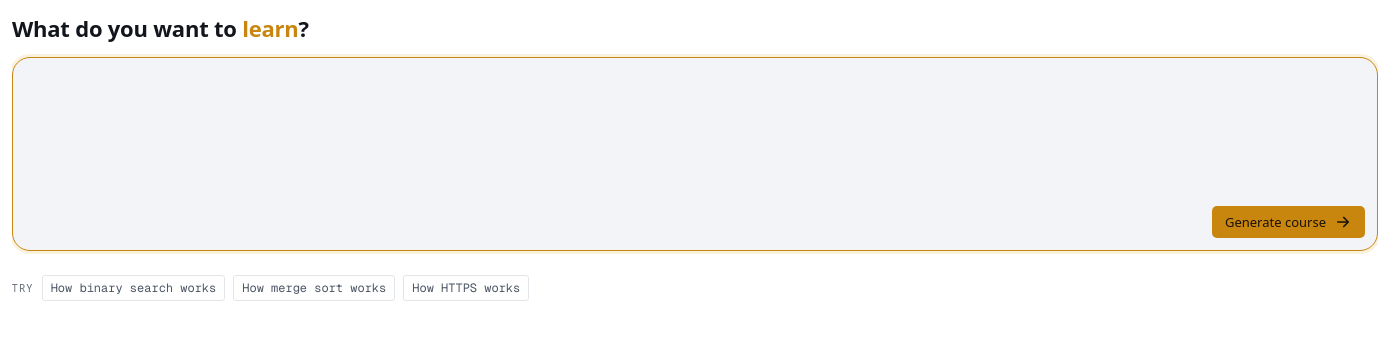
Test: TopicForm › surfaces an error and does not submit when the topic is empty
This screenshot has width=1390, height=348.
Click the button "Generate course".
click(1288, 222)  # box top-left (1212, 206), bottom-right (1365, 238)
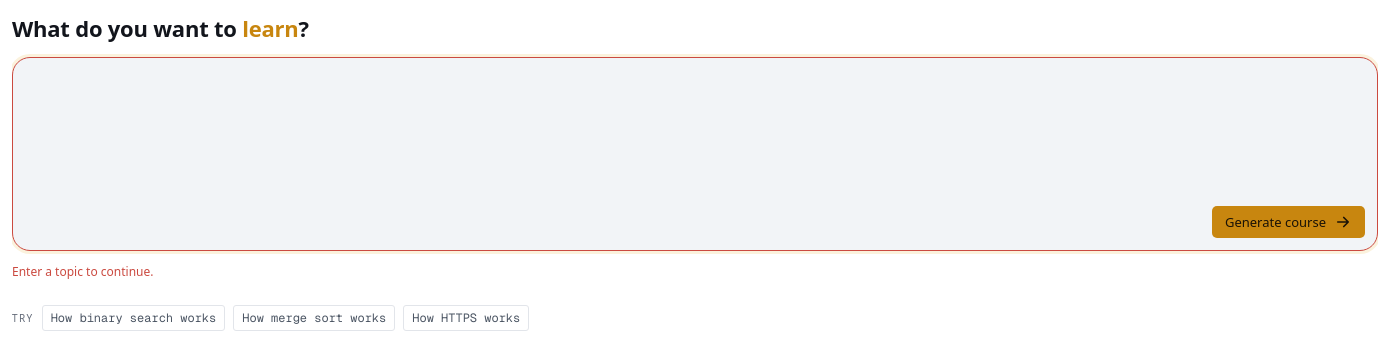
Expected: the message shows "Enter a topic", top-left (12, 263), bottom-right (154, 280)
